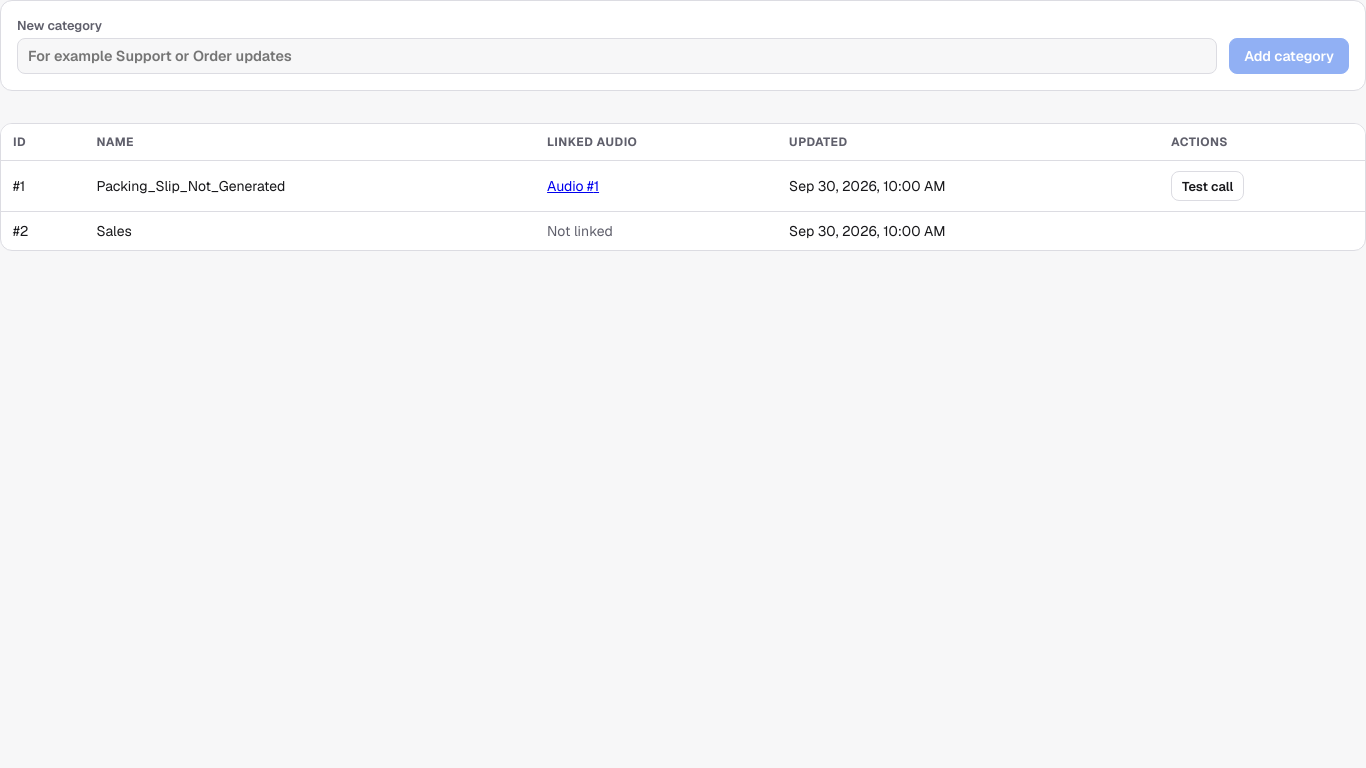
Test: AudioCategories test call › closes with Cancel, Escape or the backdrop
This screenshot has width=1366, height=768.
Click the button named "Test call for Packing_Slip_Not_Generated": x=1208, y=186 x1=1171 y1=171 x2=1244 y2=201
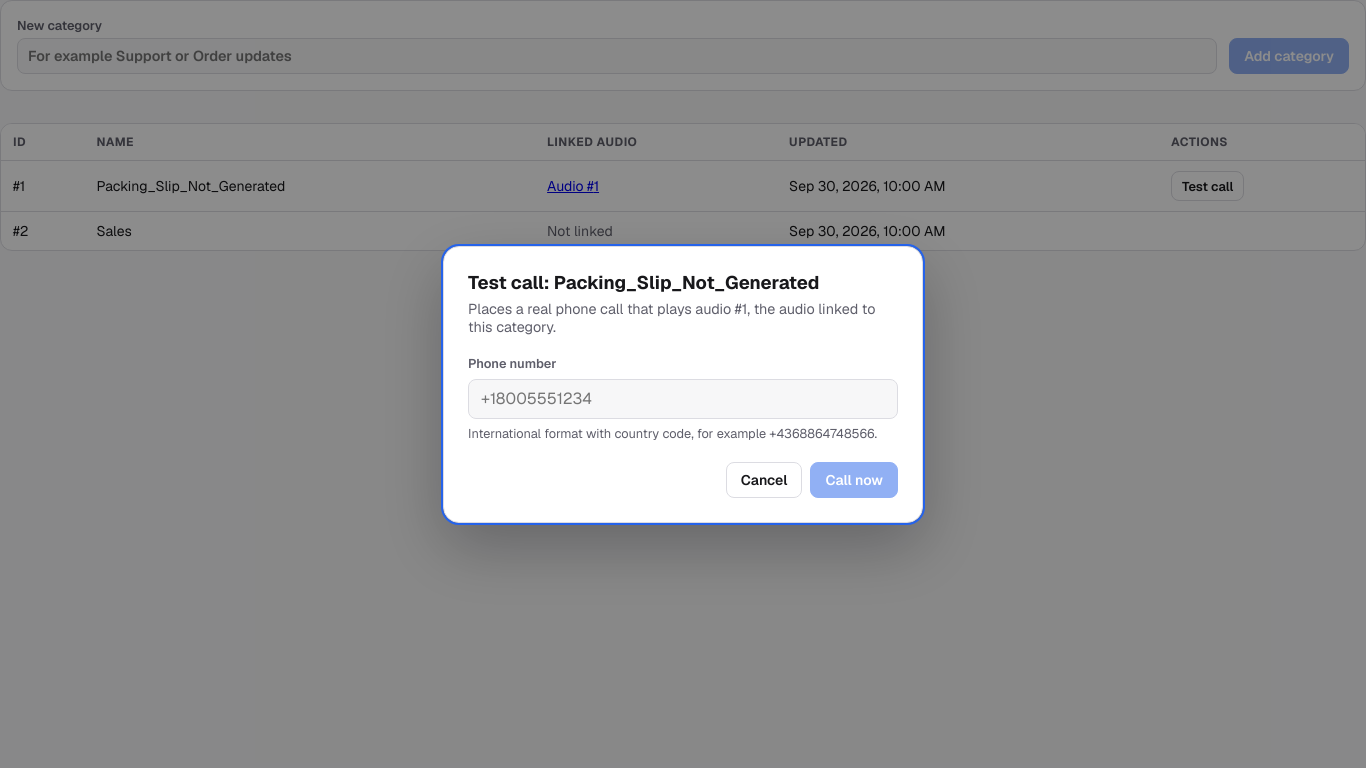
Click the button "Cancel": x=764, y=480 x1=726 y1=462 x2=802 y2=498
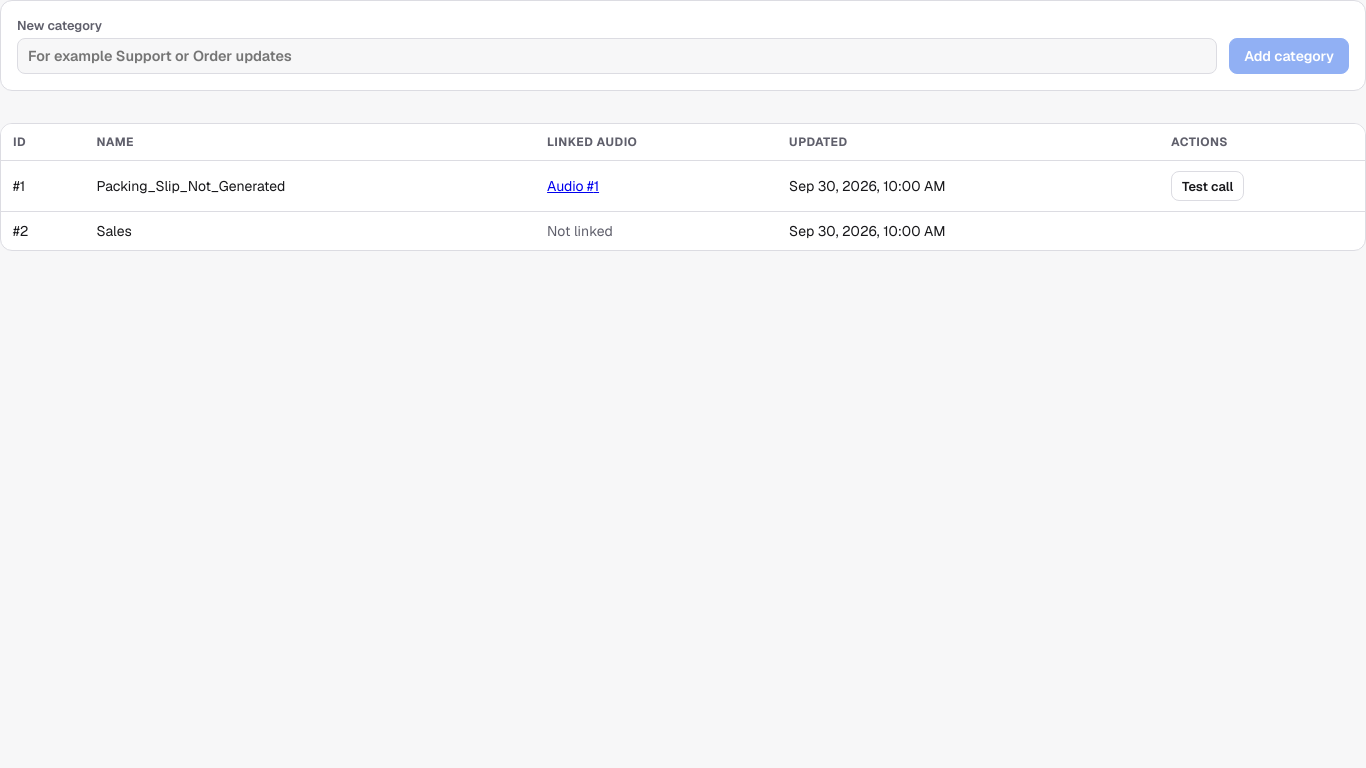
Expected: the dialog is gone
Click the button named "Test call for Packing_Slip_Not_Generated": x=1208, y=186 x1=1171 y1=171 x2=1244 y2=201
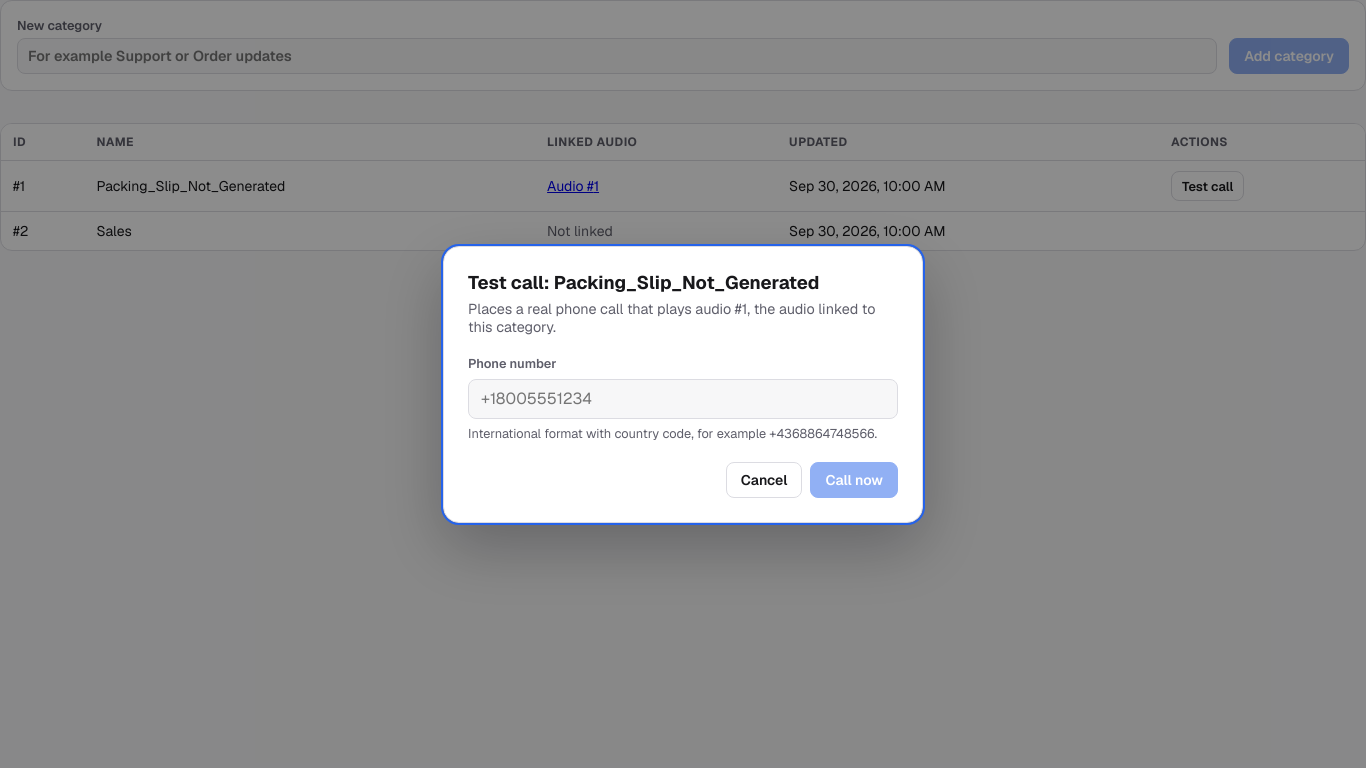
Press Escape
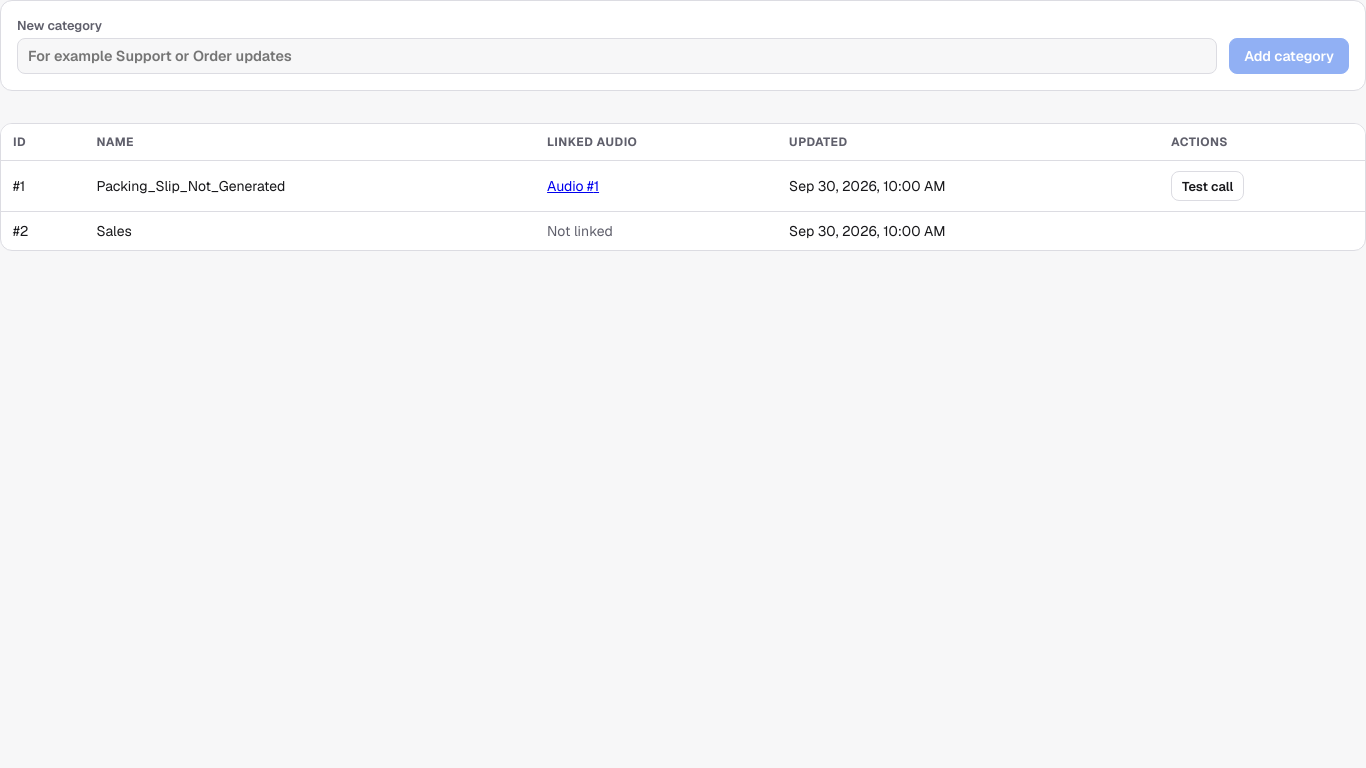
Expected: the dialog is gone
Click the button named "Test call for Packing_Slip_Not_Generated": x=1208, y=186 x1=1171 y1=171 x2=1244 y2=201
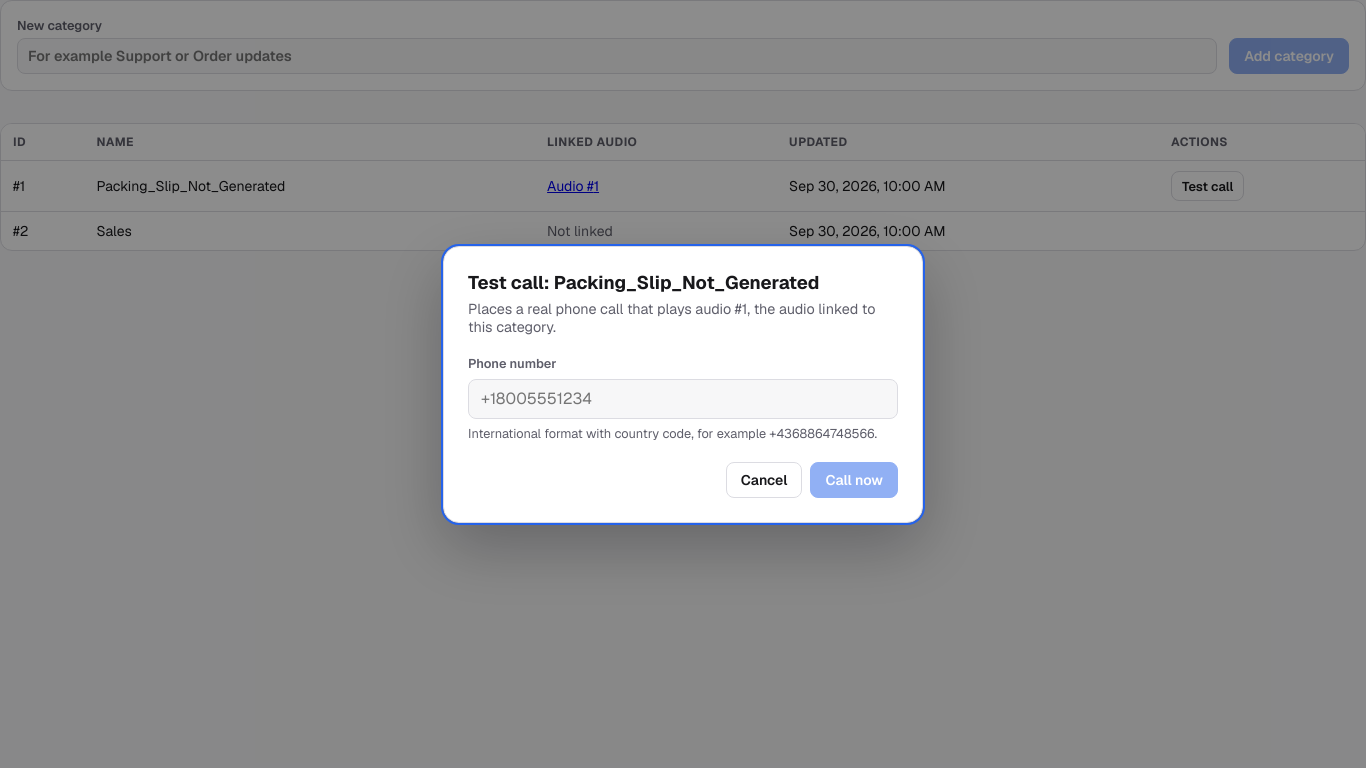
Click the element that starts with "Test call:": x=82, y=384 x1=0 y1=0 x2=1365 y2=767
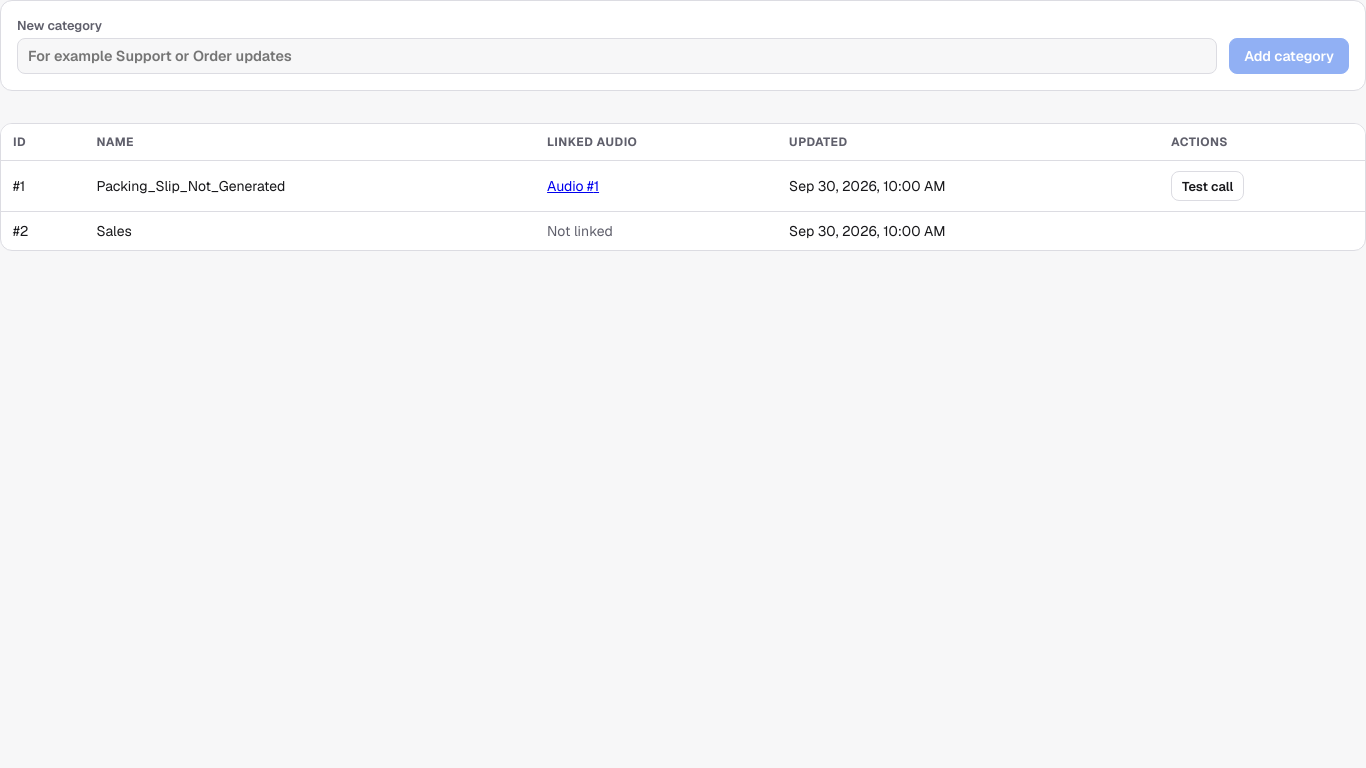
Expected: the dialog is gone
